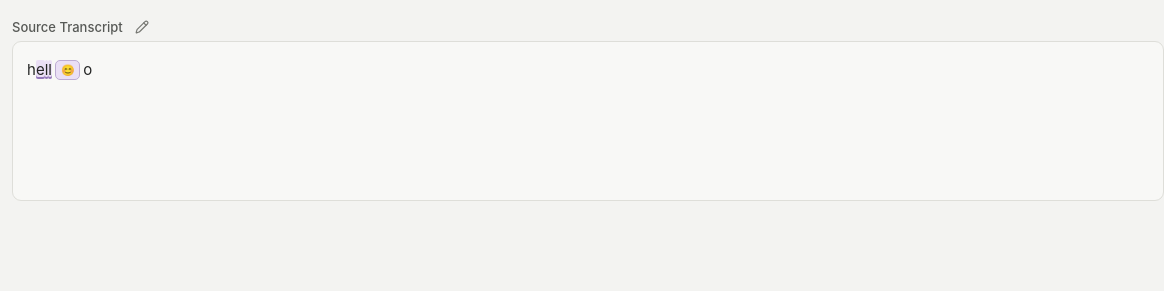
Test: EditCanvas model › opens an existing operation directly from its canvas range
Press the mouse on the 1st text "l": (46, 70) [45,60,48,79]
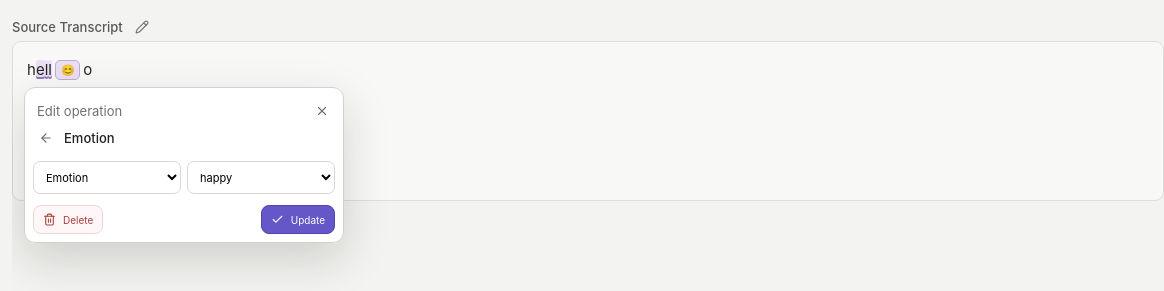
expect the element with class "operation-popover" is shown: met, box [24,87,344,243]
expect the text "Edit operation" is shown: met, box [37,102,122,118]
